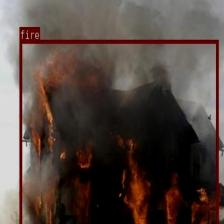fire: (19, 39, 218, 224)
